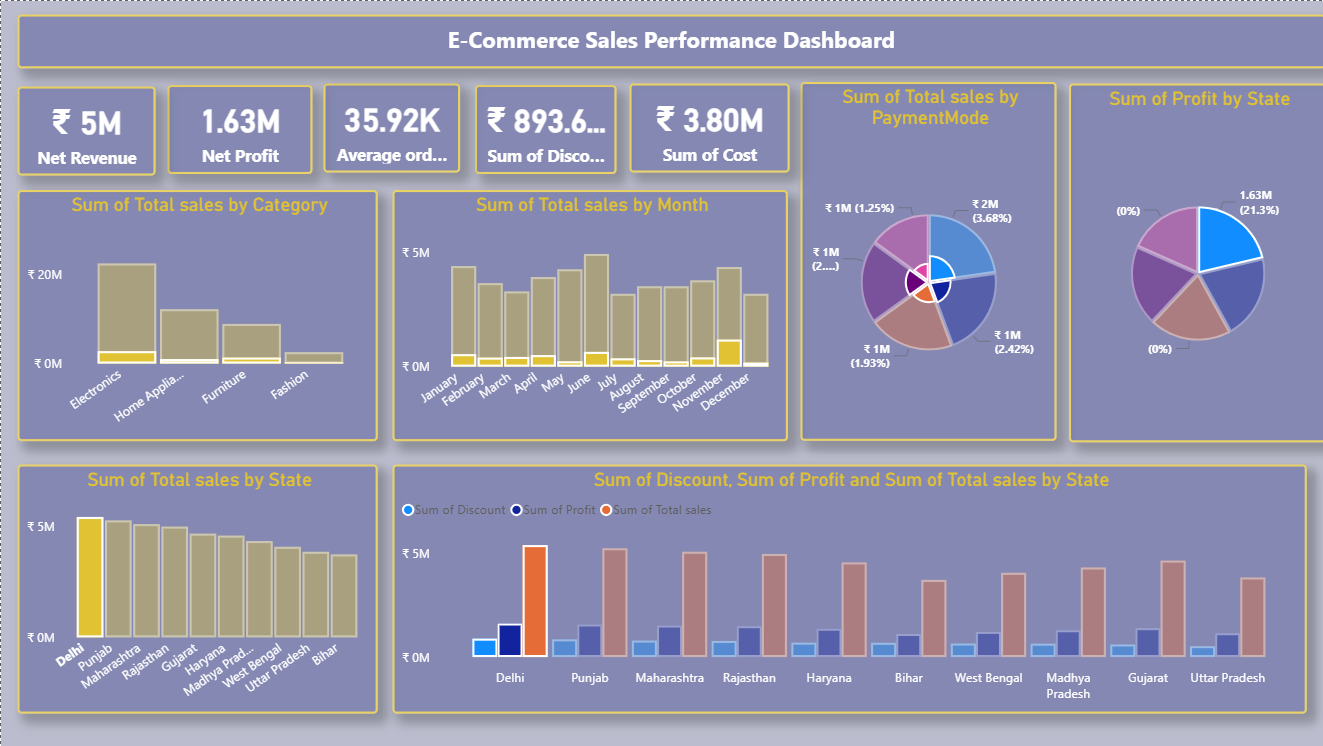

This screenshot's page, from the dashboard's own definition file:
{"tool":"powerbi","page":{"name":"Page 1","canvas":[1280,720],"ordinal":0},"visuals":[{"type":"card","fields":{"Values":["Sum(sales.Discount)"]},"box":[458.7,81.3,136.6,86.2],"z":0},{"type":"card","fields":{"Values":["sales.Net Profit"]},"box":[161,81.3,139.9,86.2],"z":1000},{"type":"card","fields":{"Values":["sales.Average order Value"]},"box":[312.3,79.7,131.8,86.2],"z":2000},{"type":"card","fields":{"Values":["sales.Net Revenue"]},"box":[16.3,83,133.4,86.2],"z":3000},{"type":"clusteredColumnChart","fields":{"Category":["sales.Category"],"Y":["Sum(sales.Total sales)"]},"box":[16.3,182.2,348.1,242.4],"z":4000},{"type":"clusteredColumnChart","fields":{"Y":["Sum(sales.Total sales)"],"Category":["sales.OrderDate.Variation.Date Hierarchy.Month"]},"box":[379,182.2,382.2,242.4],"z":5000},{"type":"clusteredColumnChart","fields":{"Category":["sales.State"],"Y":["Sum(sales.Total sales)"]},"box":[16.3,447.3,348.1,240.7],"z":6000},{"type":"textbox","box":[16.3,13,1263.8,52],"z":7000},{"type":"pieChart","fields":{"Category":["sales.PaymentMode"],"Y":["Sum(sales.Total sales)"]},"box":[772.6,78.1,247.2,346.5],"z":8000},{"type":"card","fields":{"Values":["Sum(sales.Cost)"]},"box":[606.7,79.7,154.5,86.2],"z":9000},{"type":"clusteredColumnChart","fields":{"Category":["sales.State"],"Y":["Sum(sales.Discount)","Sum(sales.Profit)","Sum(sales.Total sales)"]},"box":[379,447.3,883.2,240.7],"z":10000},{"type":"pieChart","fields":{"Category":["sales.State"],"Y":["Sum(sales.Profit)"]},"box":[1031.2,79.7,248.9,346.5],"z":11000}]}

Visuals, with their boxes in screenshot pixels (x1, y1, x2, y2), scaled from the page's 1280x720 canvas onto the 1323x746 screenshot:
card - Sum(sales.Discount): x1=474 y1=84 x2=615 y2=174
card - sales.Net Profit: x1=166 y1=84 x2=311 y2=174
card - sales.Average order Value: x1=323 y1=83 x2=459 y2=172
card - sales.Net Revenue: x1=17 y1=86 x2=155 y2=175
clusteredColumnChart - sales.Category x Sum(sales.Total sales): x1=17 y1=189 x2=377 y2=440
clusteredColumnChart - Sum(sales.Total sales) x sales.OrderDate.Variation.Date Hierarchy.Month: x1=392 y1=189 x2=787 y2=440
clusteredColumnChart - sales.State x Sum(sales.Total sales): x1=17 y1=463 x2=377 y2=713
textbox: x1=17 y1=13 x2=1322 y2=67
pieChart - sales.PaymentMode x Sum(sales.Total sales): x1=799 y1=81 x2=1054 y2=440
card - Sum(sales.Cost): x1=627 y1=83 x2=787 y2=172
clusteredColumnChart - sales.State x Sum(sales.Discount): x1=392 y1=463 x2=1305 y2=713
pieChart - sales.State x Sum(sales.Profit): x1=1066 y1=83 x2=1322 y2=442
